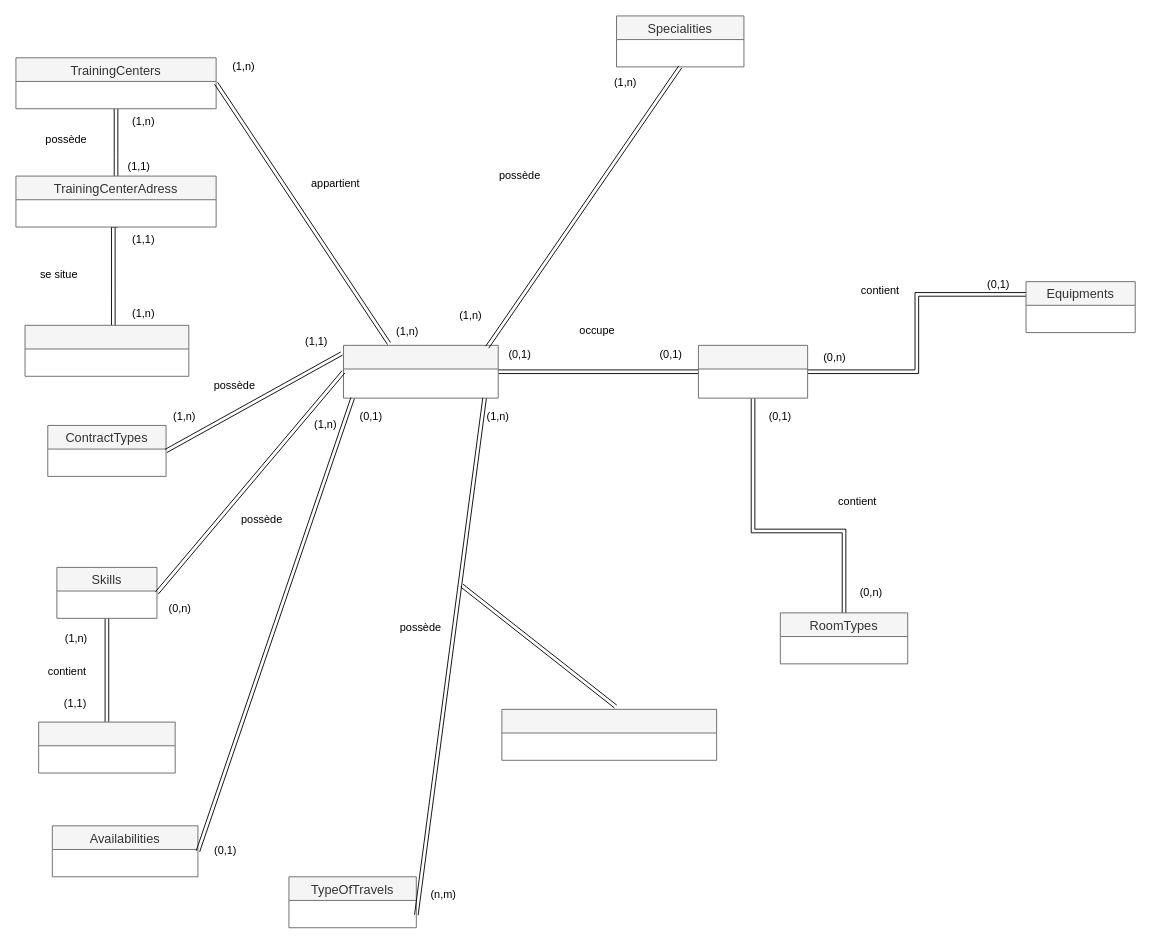
Image size: 1151x944. Some labels were removed from this diagram. The shapes that lost their labels are listed below. From the top down, each one's centre as x and y in pixels, then its label:
At pixel 106 350: "TrainingCenterCities".
At pixel 420 371: "Formateurs".
At pixel 753 371: "Salles".
At pixel 106 747: "SkillsTypes".
At pixel 609 734: "FormateursTypeOfTravels".
